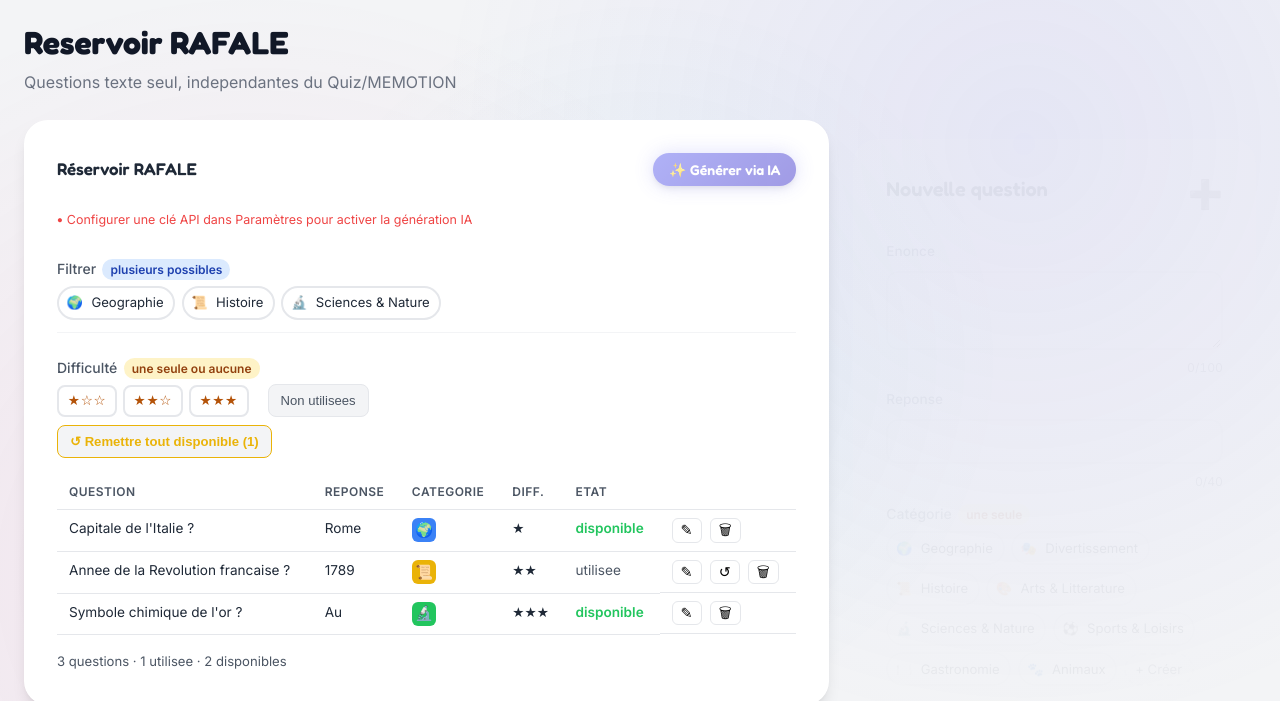
Scenario: RafalePage — filtres › filtre "Non utilisees" masque les questions déjà utilisées
Expected: the text "Capitale de l'Italie ?" is shown, [57,510,313,552]
Click the button "Non utilisees" at (318, 400), box [268,384,369,417]
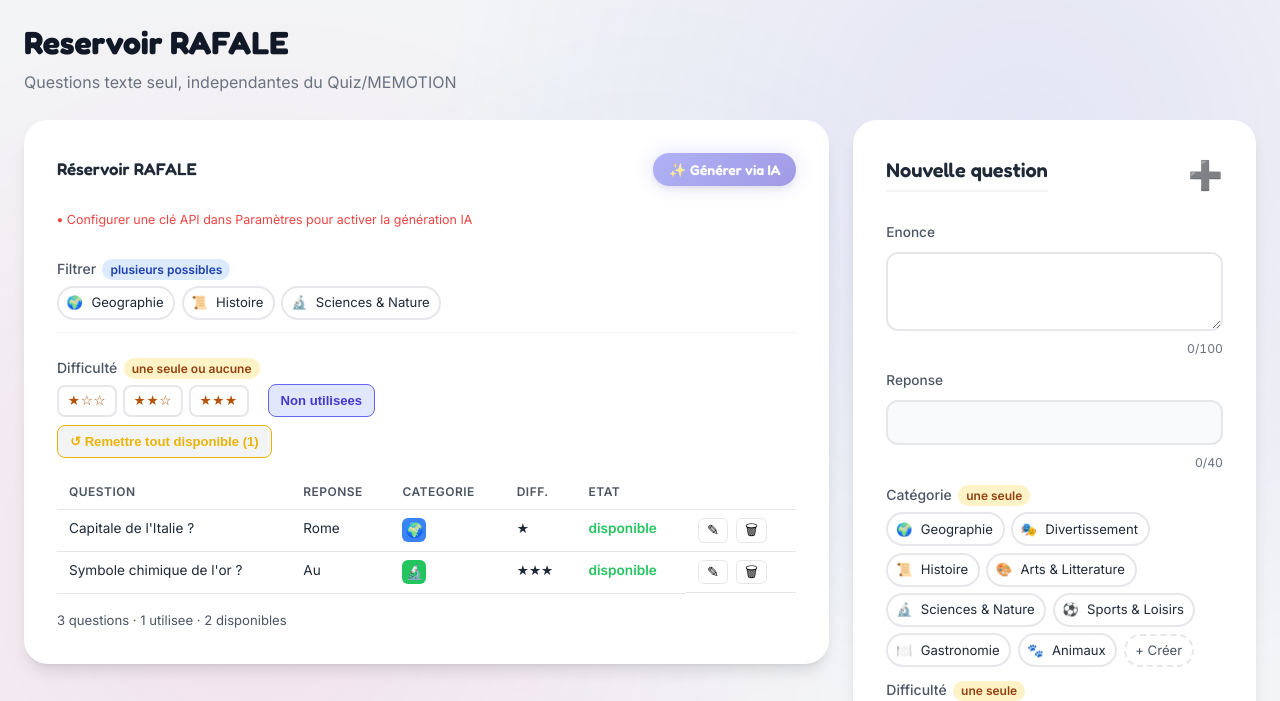
Expected: the text "Capitale de l'Italie ?" is shown, [57,510,291,552]
Expected: the text "Annee de la Revolution francaise ?" is gone
